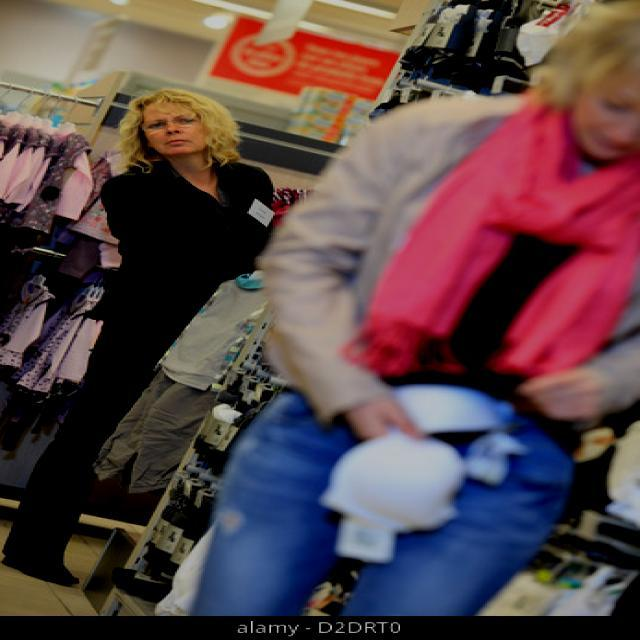shoplifting: (257, 193, 572, 577)
